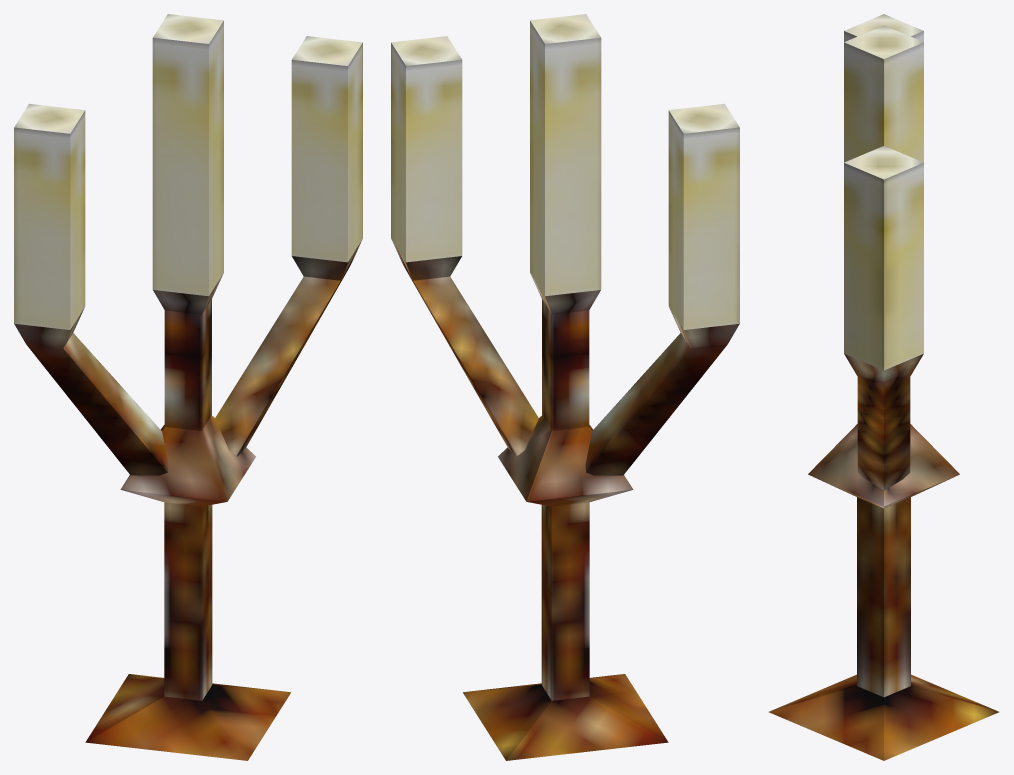
File: lazhu1.fbx
3 views of the same model, side by side, from view 1: azimuth 30°, elevation 25°; view 2: azimuth 150°, elevation 25°; view 3: azimuth 270°, elevation 25° (orthographic). The views are drawn at different scales.
Parts seen in each view (by area): view 1: lazhu1; view 2: lazhu1; view 3: lazhu1.
Boxes of the visible parts, x1,y1,x2,y2 form: lazhu1: (14,14,362,760); lazhu1: (391,14,739,760); lazhu1: (768,14,999,760).
Bounding box in the file's own units: 96.57 × 182 × 57.08.
